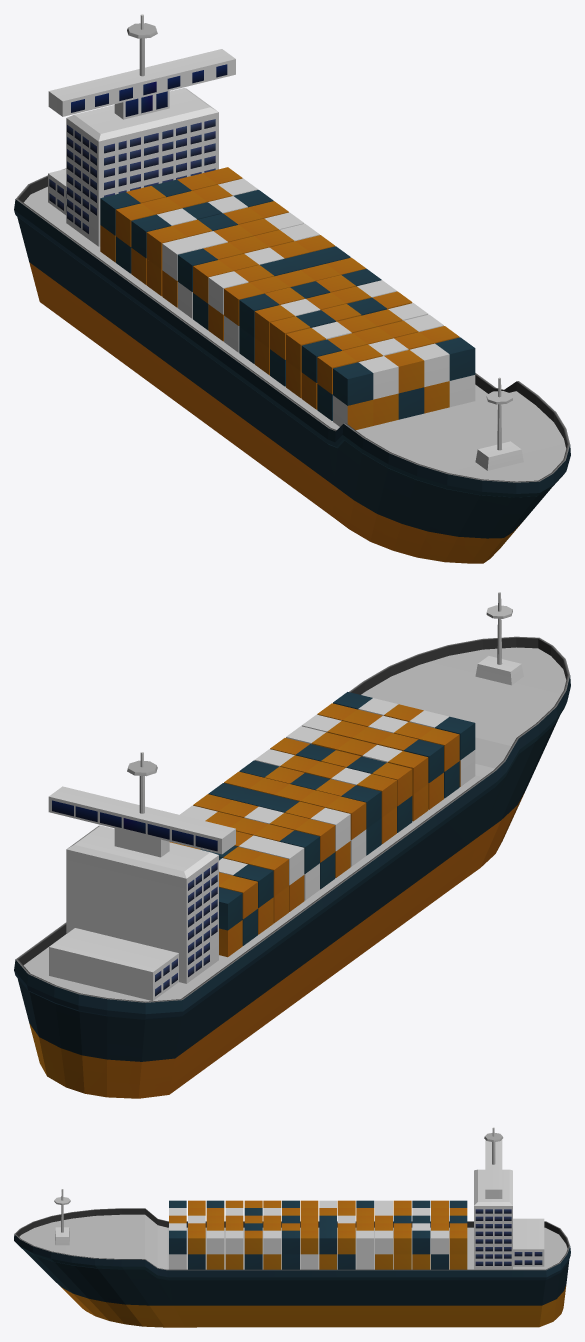
Rendered from container_ship.gltf.
The picture shows the model from 3 angles, top to bottom: view 1: azimuth 30°, elevation 25°; view 2: azimuth 150°, elevation 25°; view 3: azimuth 270°, elevation 25°; orthographic projection. The views are drawn at different scales.
Parts seen in each view (by area): view 1: container_ship; view 2: container_ship; view 3: container_ship.
Part boxes in pixels (box(x1,y1,x2,y2)): container_ship: box(14, 14, 570, 563); container_ship: box(14, 592, 570, 1098); container_ship: box(14, 1127, 570, 1327).
Size of the model in its own units: 0.9607 by 1.55 by 4.33.
1 material, 1 textured.
